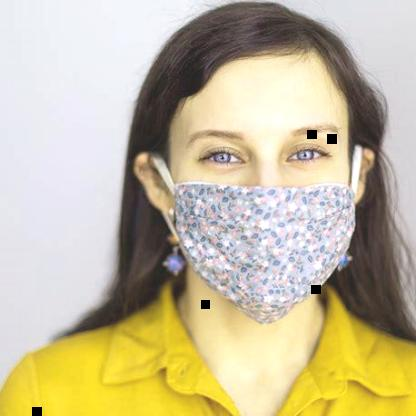mask: (142, 5, 375, 309)
